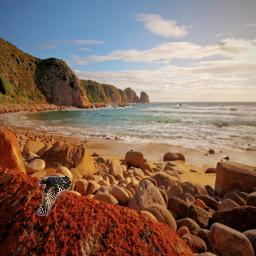Crow: (37, 176, 71, 216)
